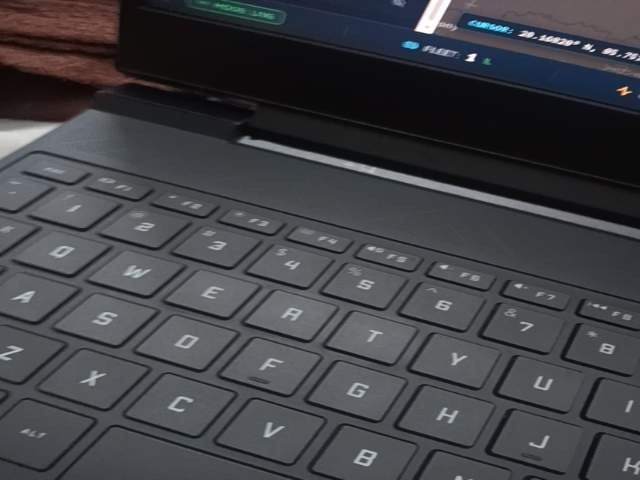pothole: (103, 403, 308, 480)
